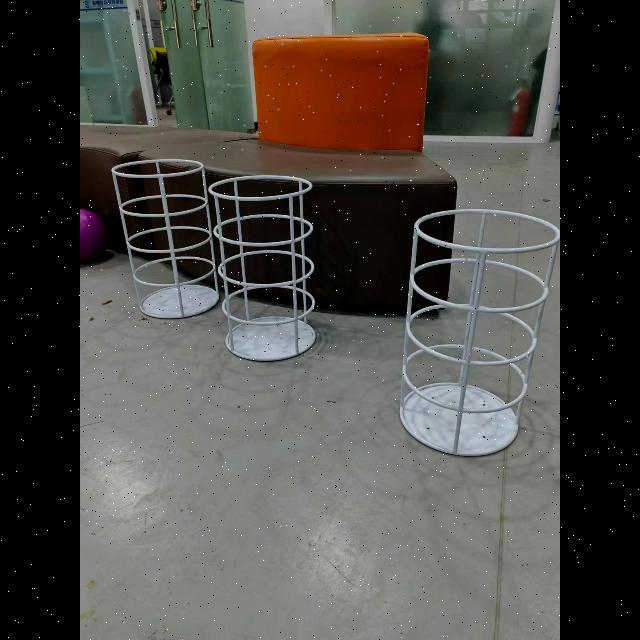P: (80, 207, 108, 265)
S: (398, 206, 560, 459), (218, 174, 322, 360), (115, 158, 217, 316)
